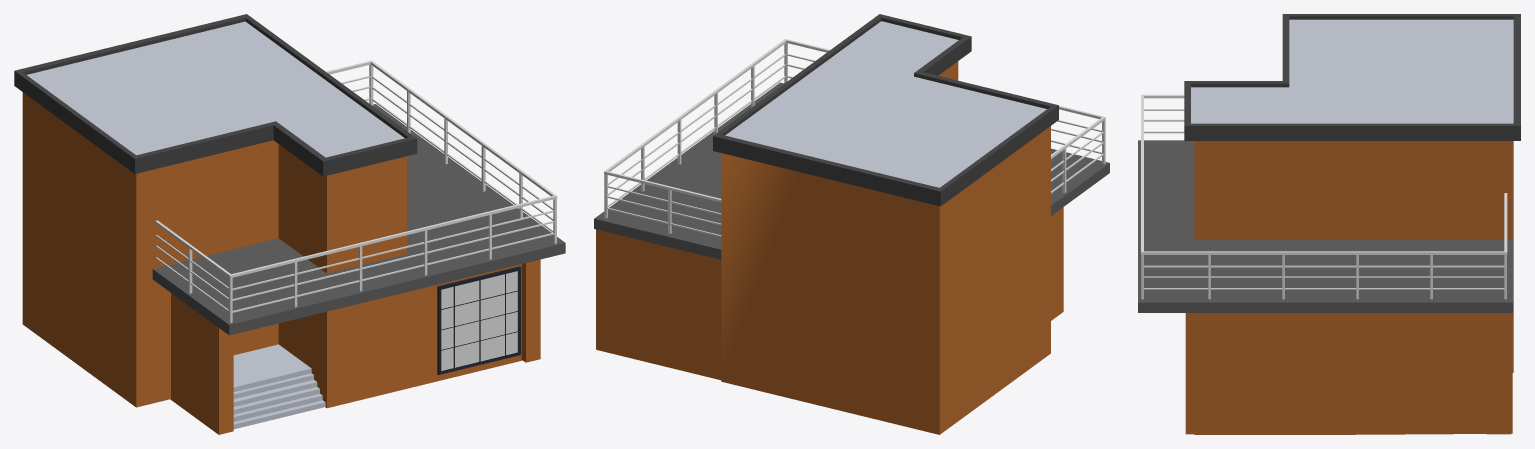
Rendered from fang2.fbx.
3 renders of one model, left to right at view 1: azimuth 30°, elevation 25°; view 2: azimuth 150°, elevation 25°; view 3: azimuth 270°, elevation 25°, orthographic. The views are drawn at different scales.
Visible parts, largest first — view 1: Cube_98; view 2: Cube_98; view 3: Cube_98.
Boxes of the visible parts, x1,y1,x2,y2 form: Cube_98: (14,14,565,434); Cube_98: (594,14,1109,434); Cube_98: (1138,14,1520,434).
Size of the model in its own units: 1339 by 906 by 1257.
